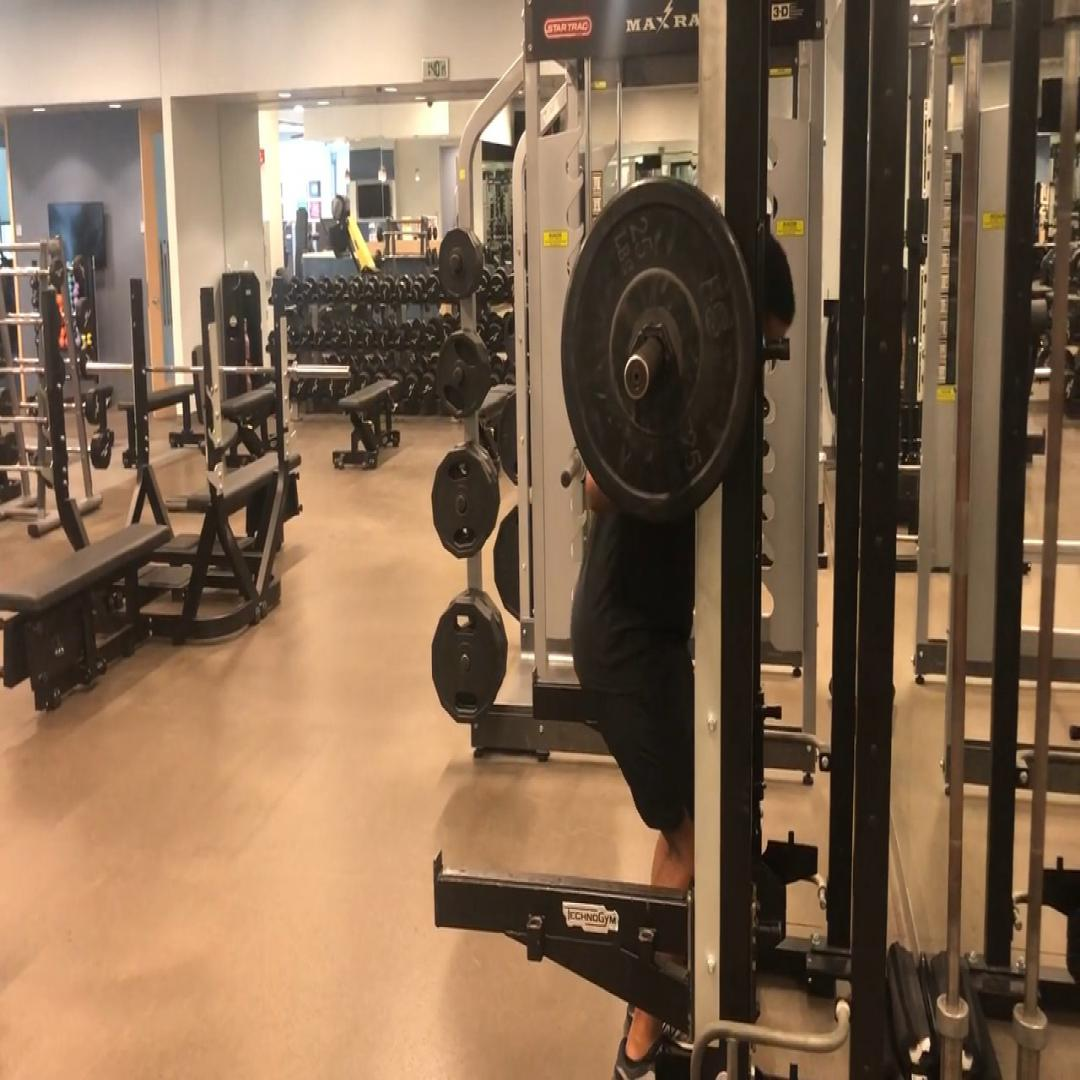Bar: (624, 354, 650, 400)
Barbell: (561, 179, 757, 524)
